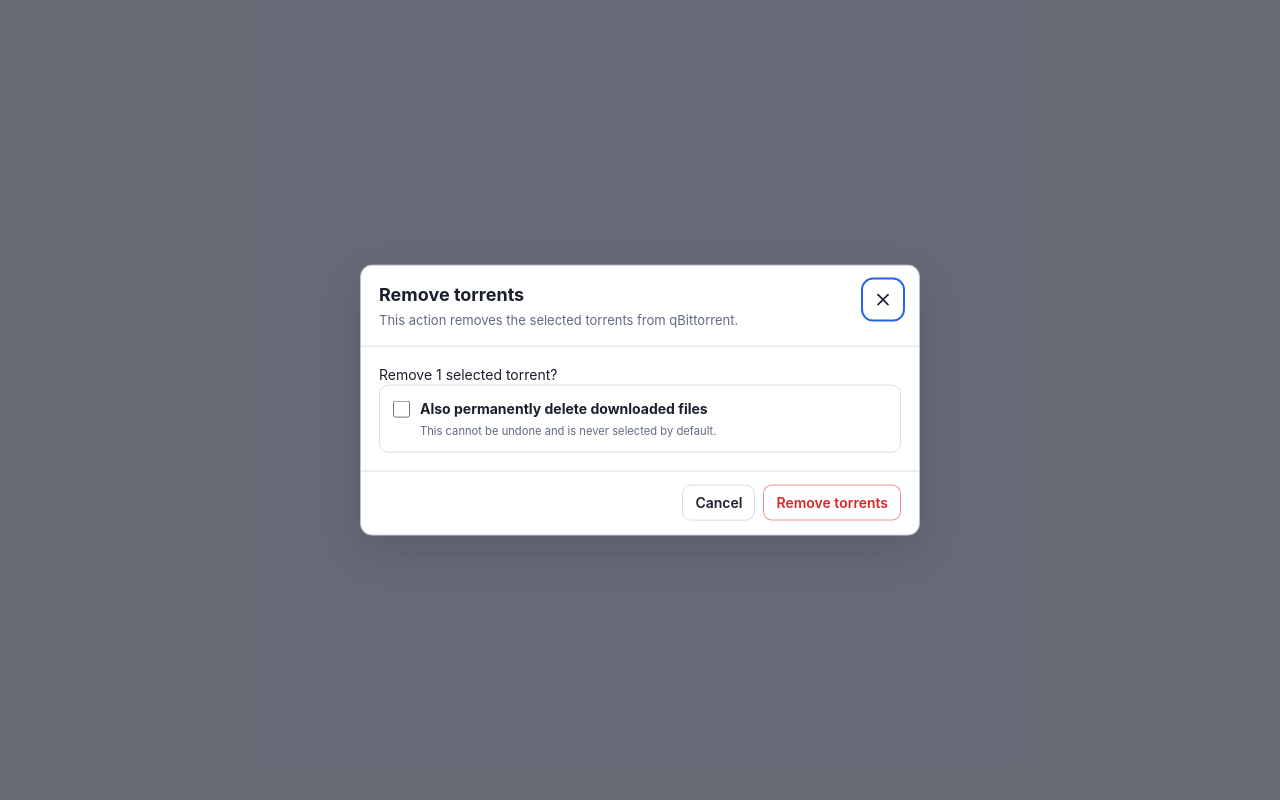
torrent dialogs › blocks stale deletion when a selected torrent disappears while confirmation is open
Click the button "Remove torrents". click: point(832, 503)
box: [764, 485, 901, 521]
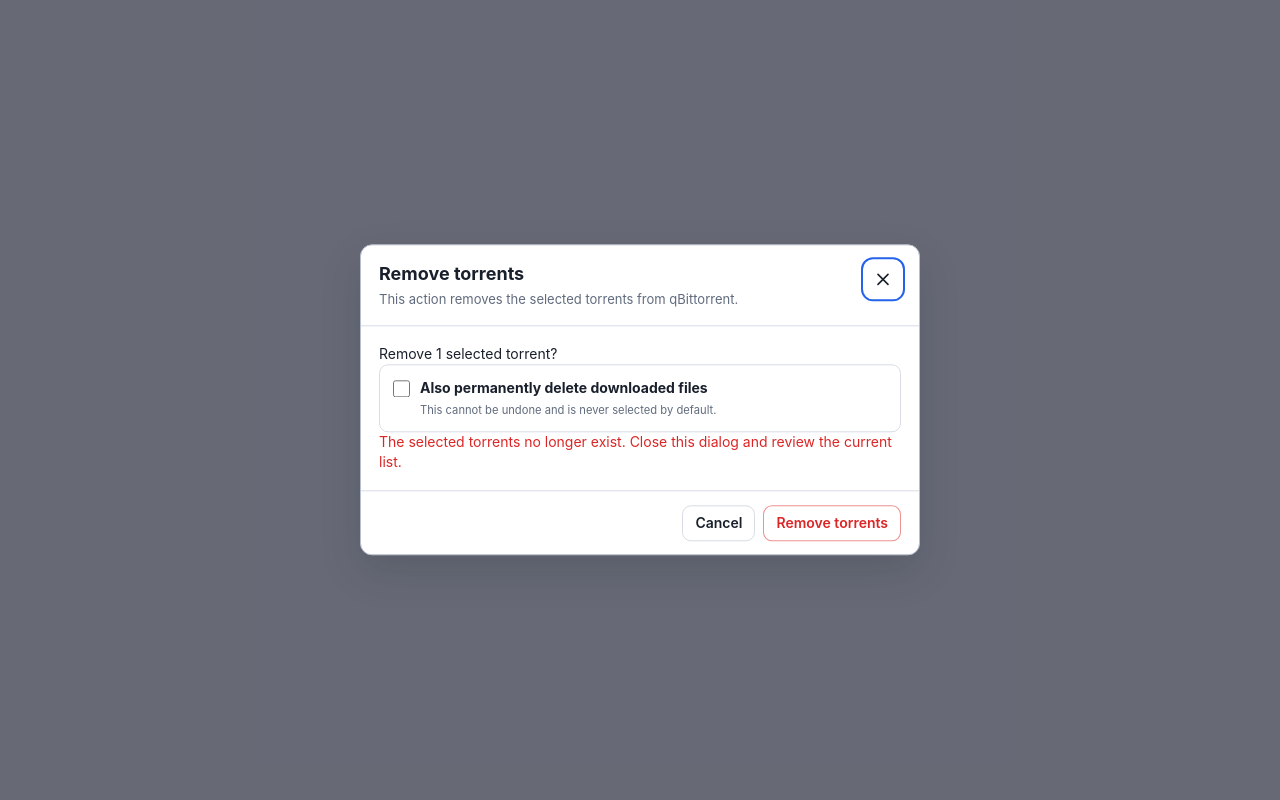
Now the message shows "selected torrents no longer exist", box [379, 433, 892, 470]
